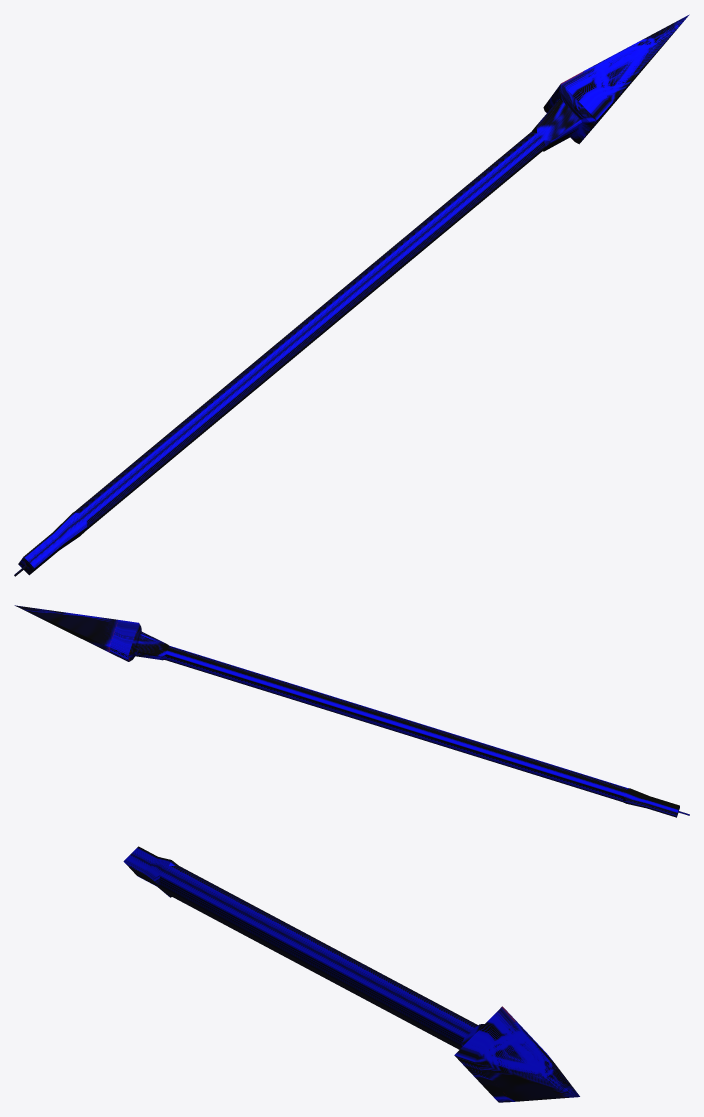
Rendered from Spear.glb.
The picture shows the model from 3 angles, top to bottom: view 1: azimuth 30°, elevation 25°; view 2: azimuth 150°, elevation 25°; view 3: azimuth 270°, elevation 25°; orthographic projection. The views are drawn at different scales.
Parts seen in each view (by area): view 1: Spear; view 2: Spear; view 3: Spear.
Boxes of the visible parts, x1,y1,x2,y2 form: Spear: (14, 14, 689, 576); Spear: (14, 605, 689, 817); Spear: (123, 846, 579, 1102).
Bounding box in the file's own units: 12.31 × 3.32 × 4.32.
1 material, 1 textured.
